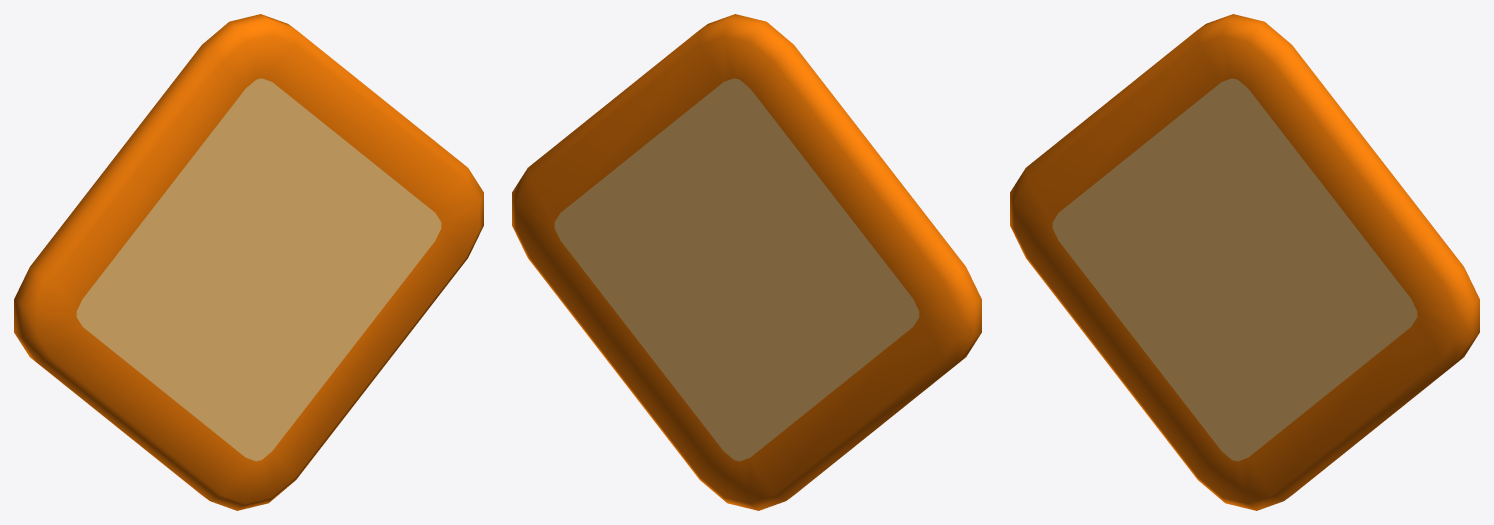
The model's file is Kitchen_potholder_02.4.fbx.
3 views of the same model, side by side, from view 1: azimuth 30°, elevation 25°; view 2: azimuth 150°, elevation 25°; view 3: azimuth 330°, elevation 25° (orthographic).
Visible parts, largest first — view 1: Kitchen_potholder_02.4; view 2: Kitchen_potholder_02.4; view 3: Kitchen_potholder_02.4.
Part boxes in pixels (x1,y1,x2,y2): Kitchen_potholder_02.4: (14,14,483,510); Kitchen_potholder_02.4: (512,14,981,510); Kitchen_potholder_02.4: (1010,14,1479,510).
Size of the model in its own units: 66.33 by 5 by 66.33.
